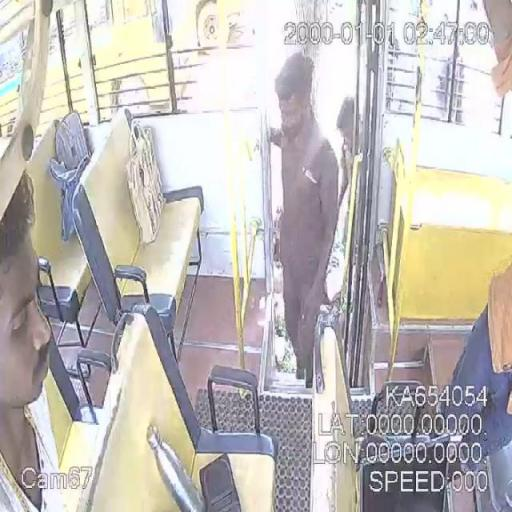persona: (266, 50, 342, 388), (0, 169, 66, 511)
